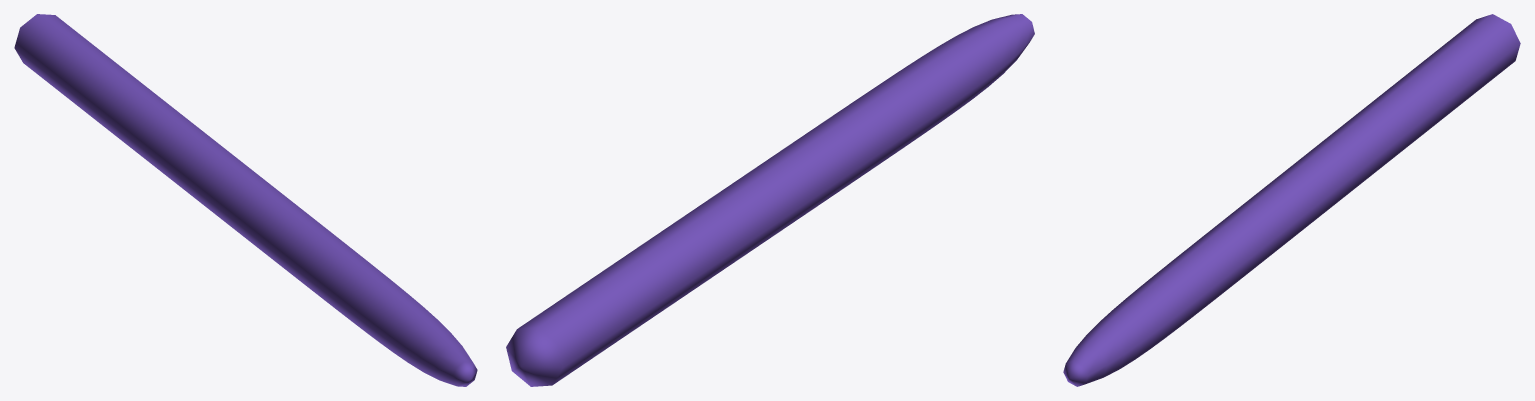
The picture shows the model from 3 angles, left to right: view 1: azimuth 30°, elevation 25°; view 2: azimuth 150°, elevation 25°; view 3: azimuth 330°, elevation 25°; orthographic projection. The views are drawn at different scales.
Parts seen in each view (by area): view 1: brush_Disco_g0_b0; view 2: brush_Disco_g0_b0; view 3: brush_Disco_g0_b0.
Boxes of the visible parts, box(x1,y1,x2,y2) form: brush_Disco_g0_b0: box(14, 14, 477, 386); brush_Disco_g0_b0: box(506, 14, 1034, 386); brush_Disco_g0_b0: box(1063, 14, 1520, 386).
Bounding box in the file's own units: 0.4989 × 0.6807 × 7.53.
